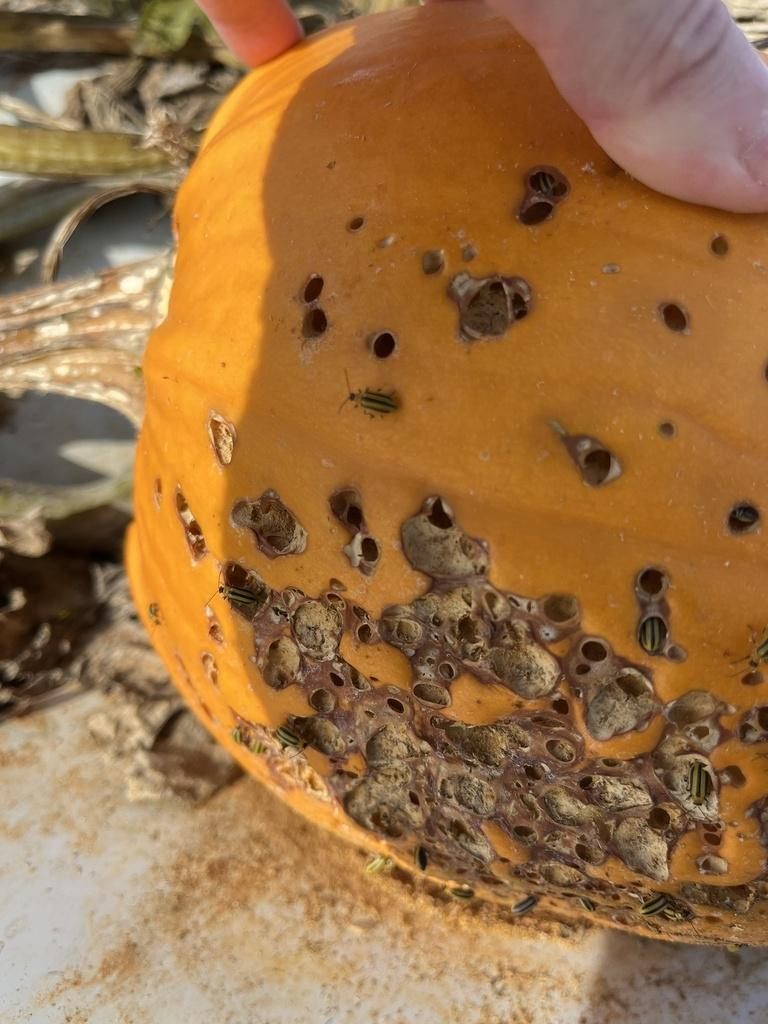potato_beetle: (326, 362, 403, 427), (199, 564, 268, 625)
